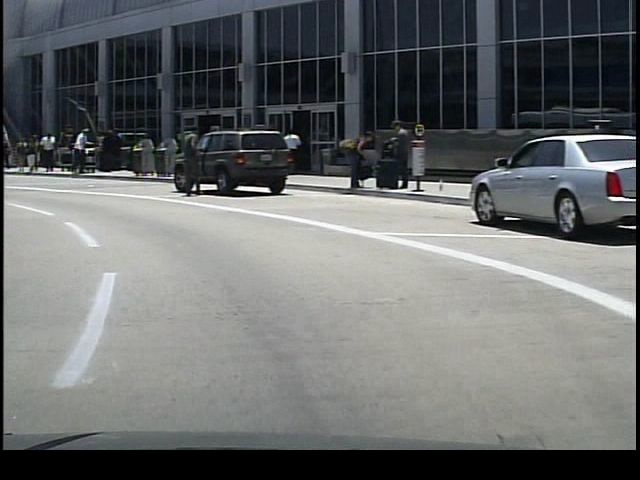person: (368, 116, 411, 193), (172, 116, 201, 203), (338, 125, 370, 193), (273, 118, 303, 186), (62, 125, 90, 178), (36, 129, 55, 178), (17, 135, 36, 180)
